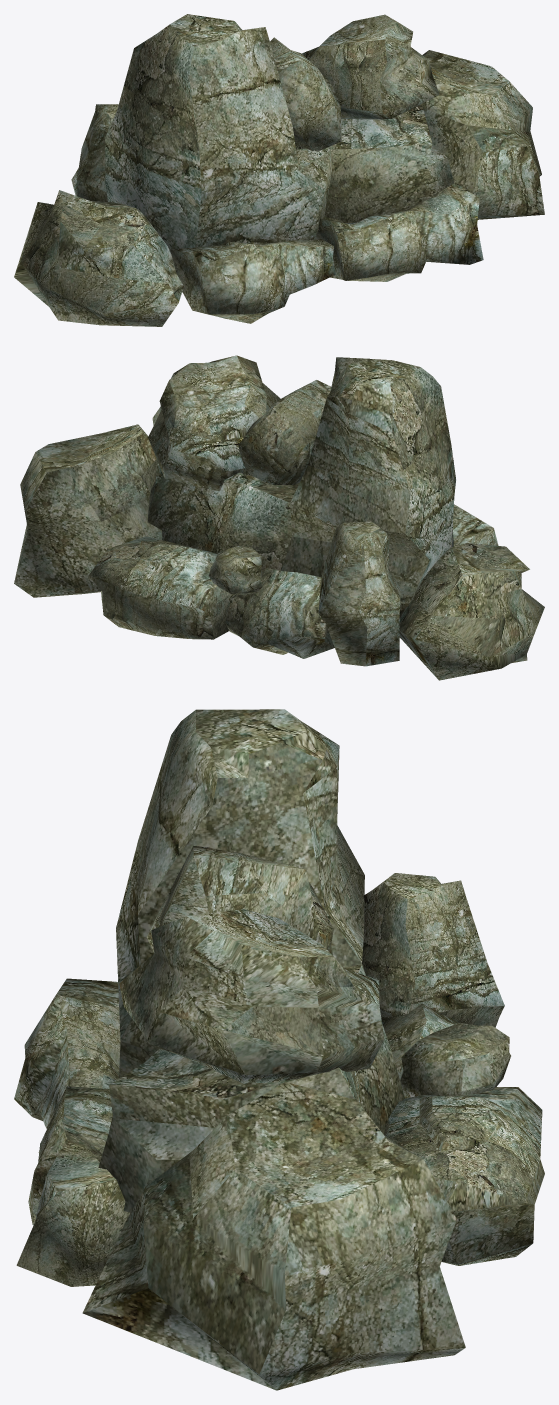
The model's file is mine_stonemine_temperate_quarry_01.glb.
The picture shows the model from 3 angles, top to bottom: view 1: azimuth 30°, elevation 25°; view 2: azimuth 150°, elevation 25°; view 3: azimuth 270°, elevation 25°; orthographic projection. The views are drawn at different scales.
Parts seen in each view (by area): view 1: mine_stonemine_temperate_quarry_01_part0; view 2: mine_stonemine_temperate_quarry_01_part0; view 3: mine_stonemine_temperate_quarry_01_part0.
Part boxes in pixels (x1,y1,x2,y2): mine_stonemine_temperate_quarry_01_part0: (14,14,544,326); mine_stonemine_temperate_quarry_01_part0: (14,355,544,680); mine_stonemine_temperate_quarry_01_part0: (14,709,544,1390).
Bounding box in the file's own units: 5.96 × 3.02 × 3.39.
1 material, 1 textured.
